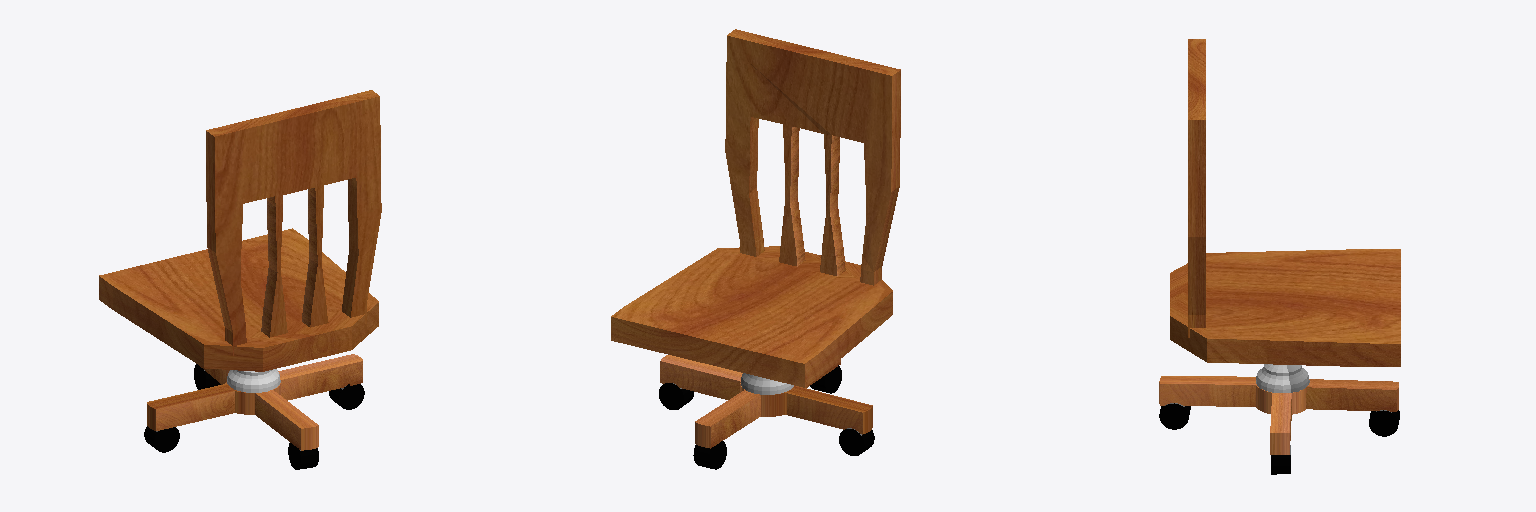
3 views of the same model, side by side, from view 1: azimuth 30°, elevation 25°; view 2: azimuth 150°, elevation 25°; view 3: azimuth 270°, elevation 25° (orthographic).
Visible parts, largest first — view 1: Cylinder06; view 2: Cylinder06; view 3: Cylinder06.
Boxes of the visible parts, x1=… form: Cylinder06: x1=99, y1=90, x2=381, y2=469; Cylinder06: x1=611, y1=29, x2=900, y2=469; Cylinder06: x1=1159, y1=39, x2=1400, y2=474.
Bounding box in the file's own units: 3.36 × 5.36 × 3.37.
Materials: 4 (3 with a texture image).